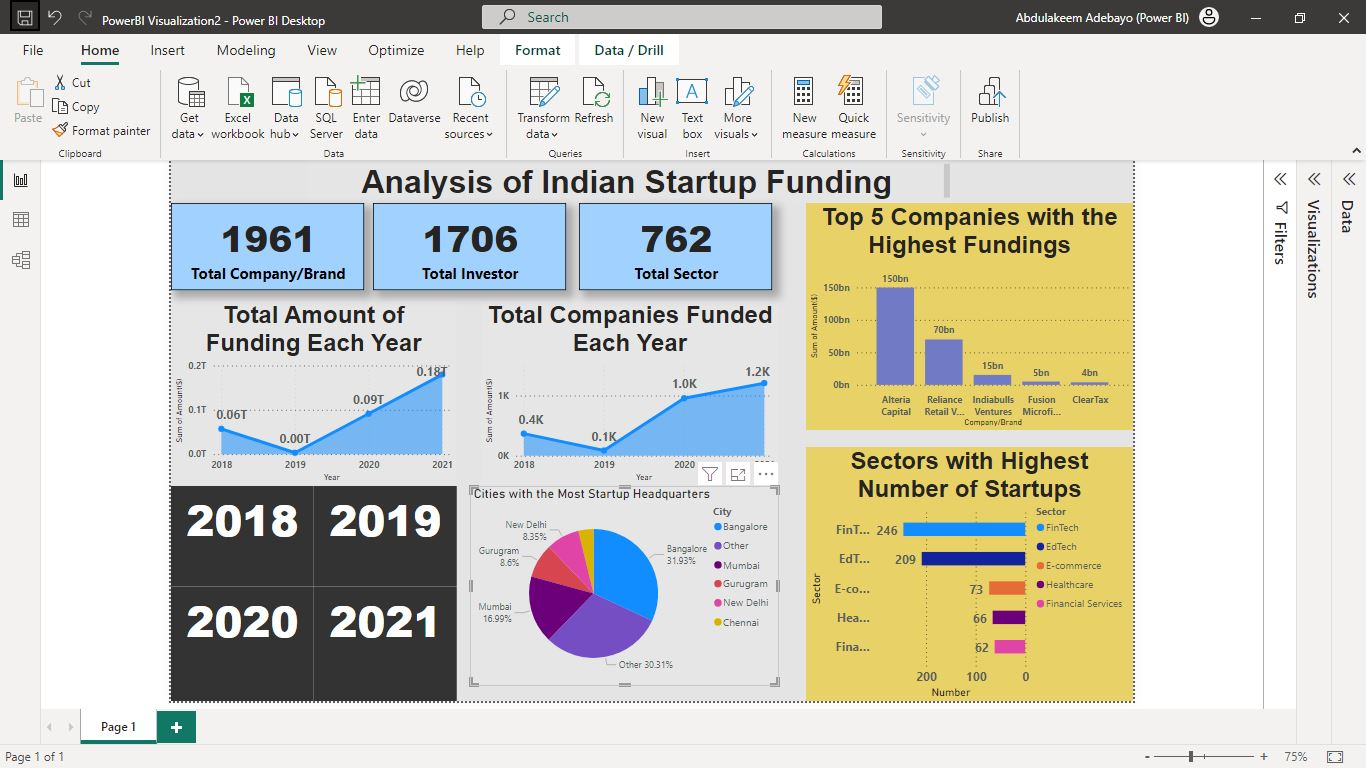

What the dashboard file says about the page in this screenshot:
{"tool":"powerbi","page":{"name":"Page 1","canvas":[1280,720],"ordinal":0},"visuals":[{"type":"clusteredColumnChart","title":"Top 5 Companies with the Highest Fundings","fields":{"Y":["Sum(Sheet1 (2).Amount($))"],"Category":["Sheet1 (2).Company/Brand"]},"box":[844.9,57.1,435.1,302.4],"z":0},{"type":"areaChart","title":"Total Amount of Funding Each Year","fields":{"Category":["Sheet1 (2).Year"],"Y":["Sum(Sheet1 (2).Amount($))"]},"box":[0,188.1,379.6,245.2],"z":1000},{"type":"barChart","title":"Sectors with Highest Number of Startups","fields":{"Category":["Sheet1 (2).Sector"],"Y":["CountNonNull(Sheet1 (2).Company/Brand)"],"Series":["Sheet1 (2).Sector"]},"box":[844.9,381.3,435.1,339.3],"z":2000},{"type":"card","fields":{"Values":["Count(Sheet1 (2).Company/Brand)"]},"box":[0,57.1,257,115.9],"z":3000},{"type":"areaChart","title":"Total Companies Funded Each Year","fields":{"Category":["Sheet1 (2).Year"],"Y":["CountNonNull(Sheet1 (2).Company/Brand)"]},"box":[413.2,188.1,396.4,245.2],"z":4000},{"type":"pieChart","title":"Cities with the Most Startup Headquarters","fields":{"Y":["CountNonNull(Sheet1.Company/Brand)"],"Category":["Sheet1.City (groups)"]},"box":[398.1,433.4,411.5,267.1],"z":5000},{"type":"textbox","box":[179.7,0,861.7,57.1],"z":6000},{"type":"card","fields":{"Values":["Count(Sheet1 (2).Investor)"]},"box":[268.8,57.1,257,115.9],"z":7000},{"type":"card","fields":{"Values":["Count(Sheet1 (2).Sector)"]},"box":[542.6,57.1,257,115.9],"z":8000},{"type":"textbox","box":[0,433.4,189.8,134.4],"z":9000},{"type":"textbox","box":[189.8,433.4,189.8,134.4],"z":10000},{"type":"textbox","box":[189.8,567.8,189.8,152.9],"z":11000},{"type":"textbox","box":[0,567.8,189.8,152.9],"z":12000}]}

Visuals, with their boxes in screenshot pixels (x1, y1, x2, y2):
"Top 5 Companies with the Highest Fundings" clusteredColumnChart: box=[910, 29, 1365, 371]
"Total Amount of Funding Each Year" areaChart: box=[0, 177, 383, 455]
"Sectors with Highest Number of Startups" barChart: box=[910, 396, 1365, 767]
card - Count(Sheet1 (2).Company/Brand): box=[0, 29, 244, 160]
"Total Companies Funded Each Year" areaChart: box=[421, 177, 870, 455]
"Cities with the Most Startup Headquarters" pieChart: box=[404, 455, 870, 757]
textbox: box=[157, 0, 1132, 29]
card - Count(Sheet1 (2).Investor): box=[258, 29, 549, 160]
card - Count(Sheet1 (2).Sector): box=[568, 29, 858, 160]
textbox: box=[0, 455, 168, 607]
textbox: box=[168, 455, 383, 607]
textbox: box=[168, 607, 383, 767]
textbox: box=[0, 607, 168, 767]
